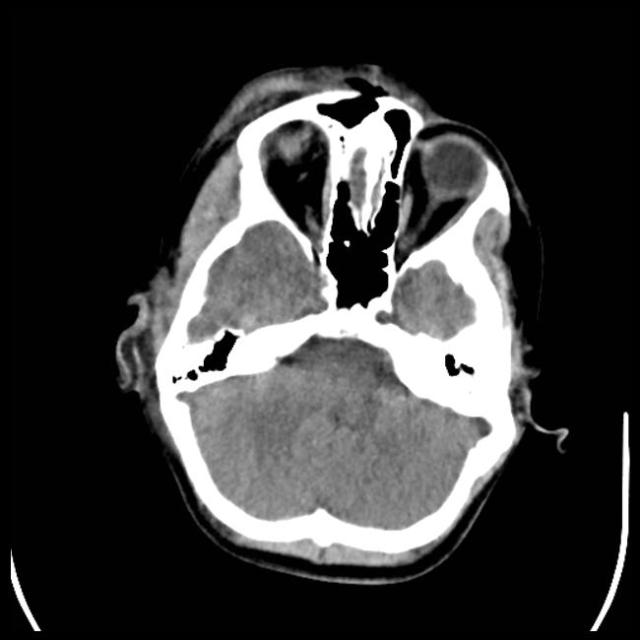lesion: (114, 61, 567, 581)
